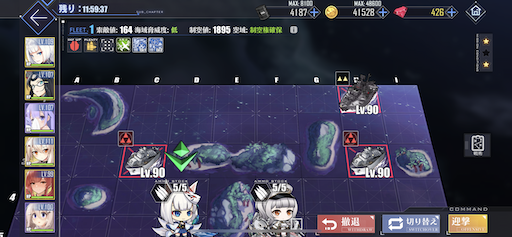lv2: (333, 69, 381, 115)
lv3: (342, 129, 391, 178), (116, 129, 163, 177)
